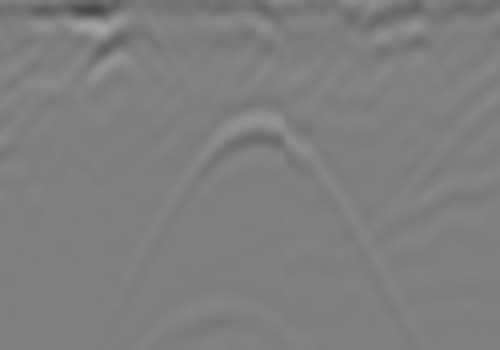hyperbola: (133, 107, 398, 291)
